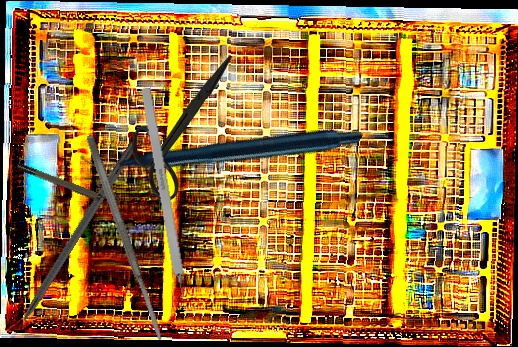Fixation Ring: (15, 156, 122, 212)
Handpiece: (79, 16, 364, 276)
Hook Surgical: (3, 139, 138, 346), (140, 87, 192, 318)
Iris Scissors: (130, 54, 233, 201)
Spatula Surgical: (84, 133, 166, 344)
